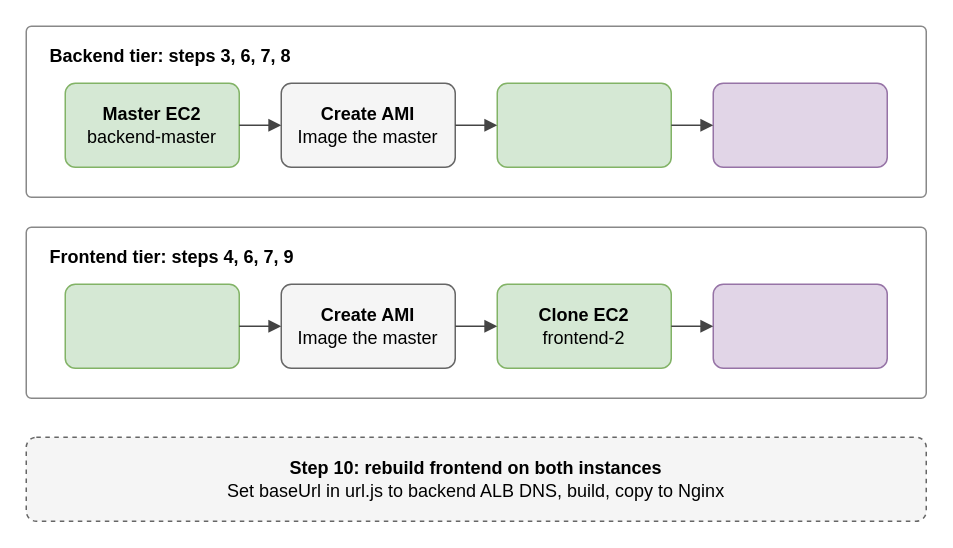
The diagram is 953 pixels wide and 548 high, and some of its shapes have lost their labels. The centre of each missing label's shape, as x and y in pixels:
"Clone EC2 backend-2" goes at [583,124].
"Master EC2 frontend-master" goes at [151,325].
"TG + ALB Health: /" goes at [799,325].
"TG + ALB Health: /hello" goes at [799,124].
